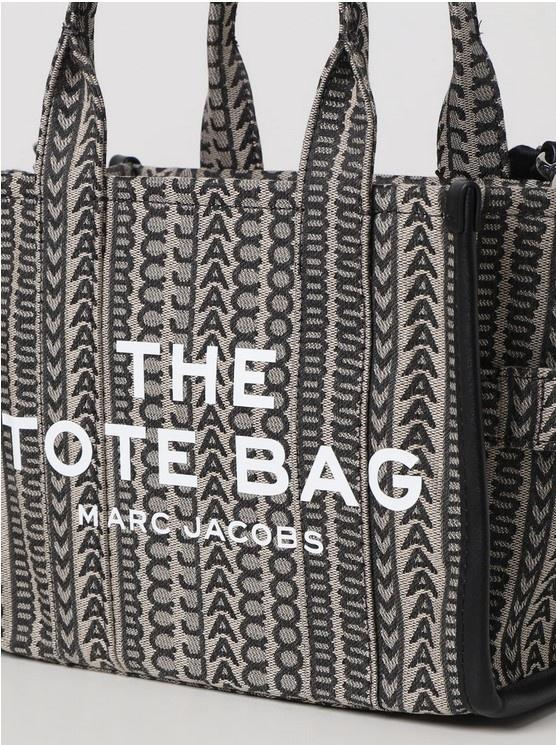MARC-JACOBS: (78, 504, 324, 554)
